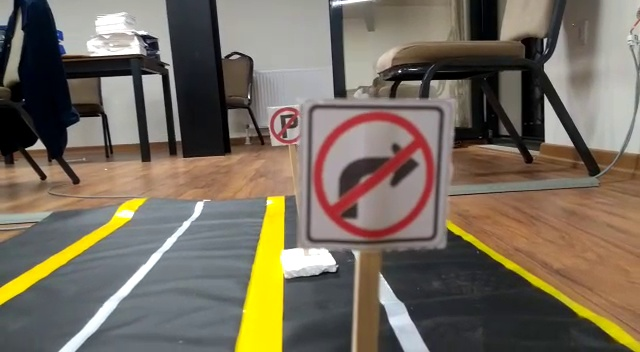park_yapilmaz: (267, 103, 303, 146)
saga_donulmez: (305, 107, 439, 239)
